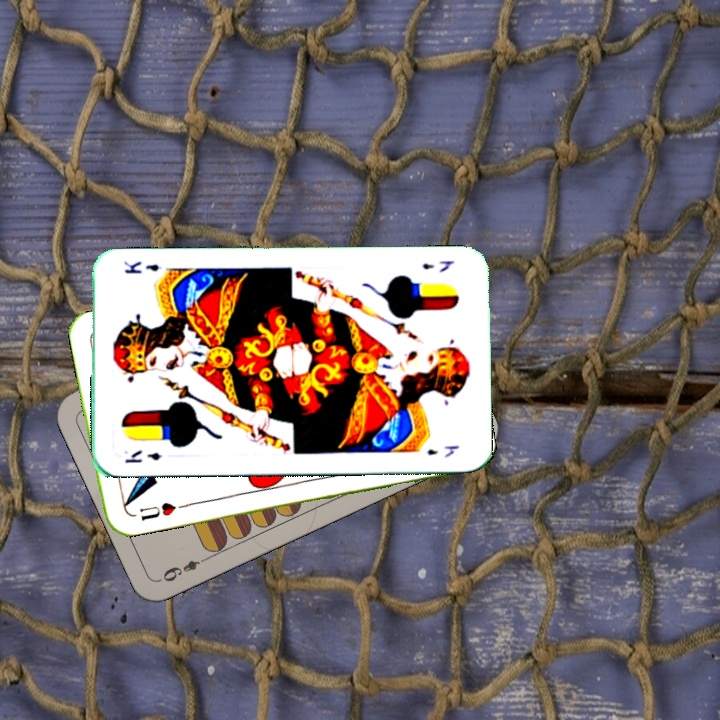E9: (158, 552, 212, 585)
EK: (120, 446, 163, 466), (418, 257, 457, 275)
HU: (136, 498, 179, 523)
